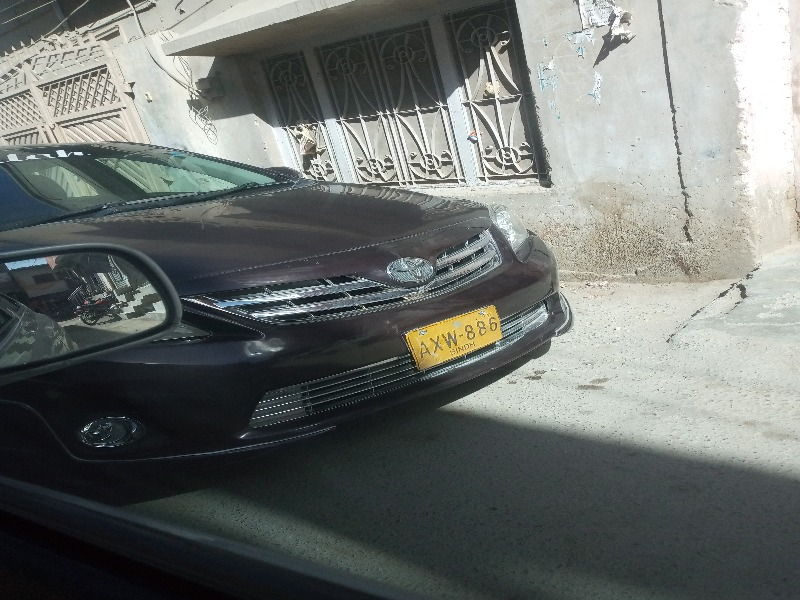License Plate: (401, 307, 505, 374)
